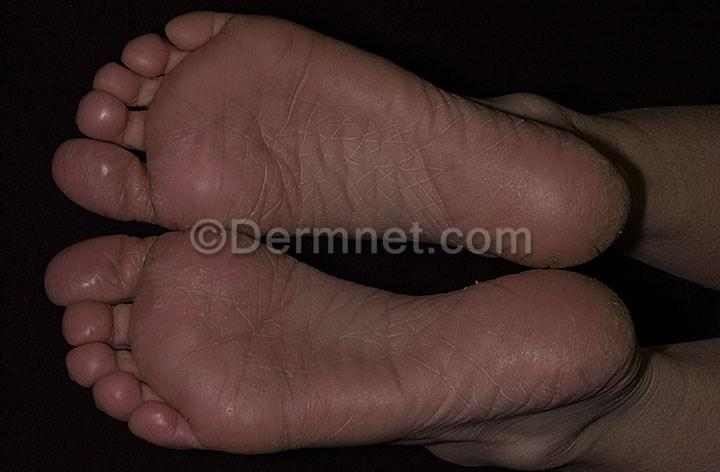Eczema: (388, 90, 486, 173), (164, 330, 249, 418), (283, 352, 375, 425), (163, 247, 235, 329), (499, 140, 579, 213), (307, 52, 378, 131), (194, 49, 265, 122), (446, 341, 531, 398), (563, 295, 623, 374), (64, 237, 137, 298), (174, 163, 236, 216), (89, 160, 136, 211), (95, 107, 135, 138), (72, 302, 105, 336), (101, 72, 134, 101), (105, 380, 134, 407), (75, 349, 105, 374), (139, 45, 166, 68)
